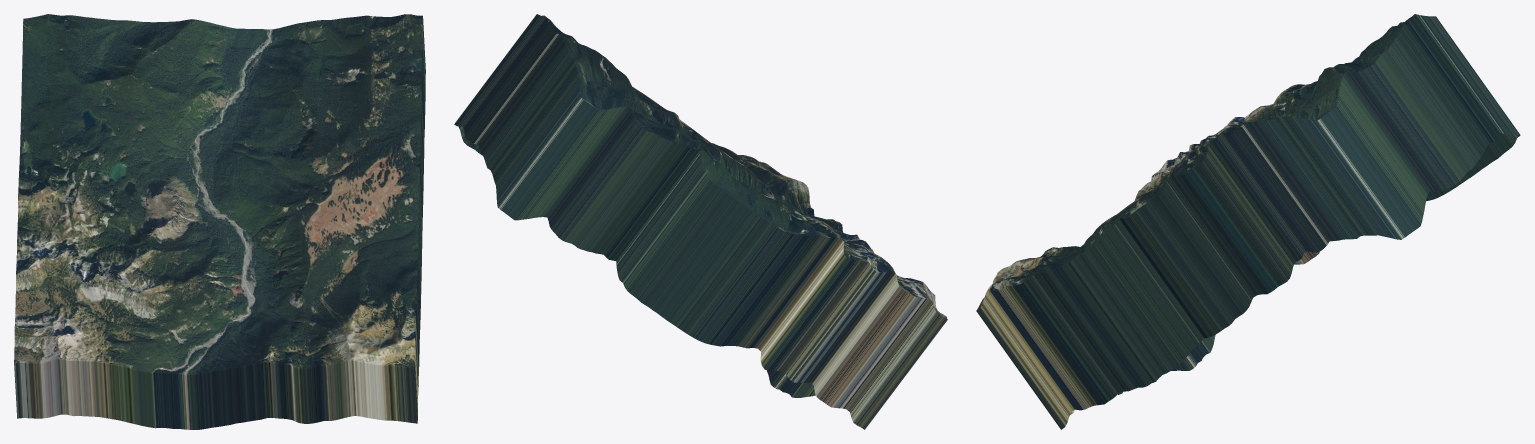
3 views of the same model, side by side, from view 1: azimuth 30°, elevation 25°; view 2: azimuth 150°, elevation 25°; view 3: azimuth 270°, elevation 25° (orthographic). The views are drawn at different scales.
Bounding box in the file's own units: 11038 × 7859 × 11177.
Materials: 1 (1 with a texture image).
